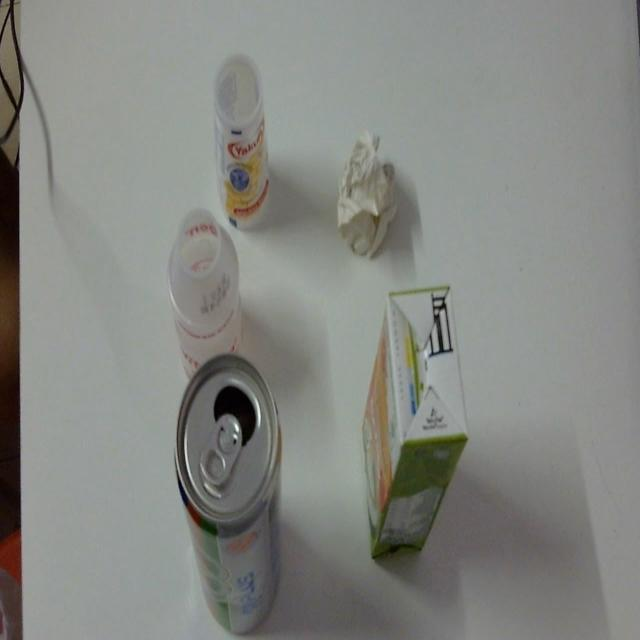metal_standrotation: (164, 349, 306, 637)
paperrotation: (332, 112, 405, 276)
plastic_standrotation: (359, 279, 476, 581), (201, 47, 294, 238), (157, 196, 240, 379)
